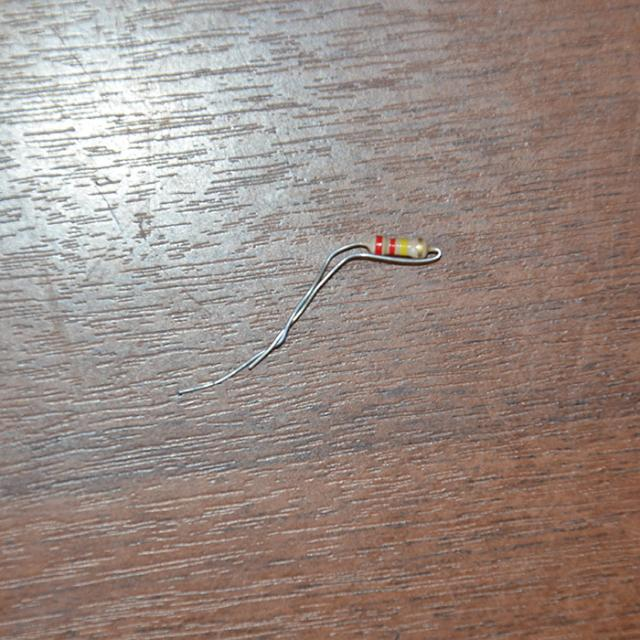gold: (415, 239, 422, 255)
red: (389, 238, 395, 254), (375, 237, 381, 253)
resistor: (368, 232, 437, 264)
yellow: (400, 239, 406, 255)
